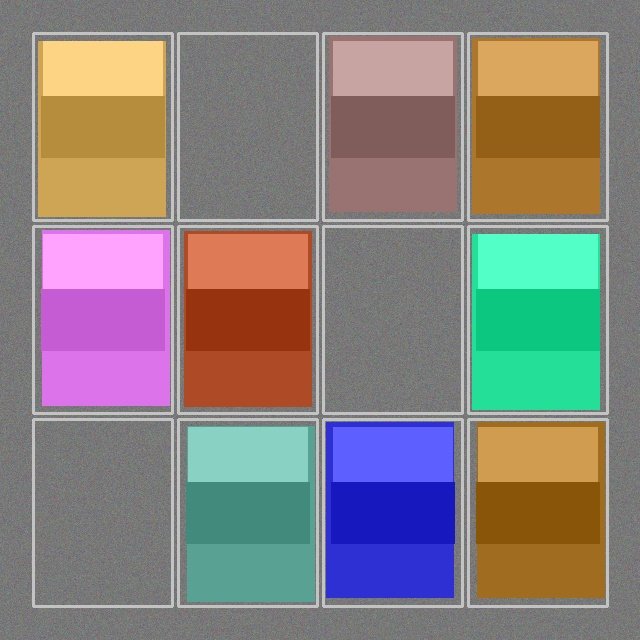space-empty: (180, 35, 315, 218), (325, 228, 460, 411), (35, 421, 170, 604)
space-occupied: (35, 35, 170, 218), (325, 35, 460, 218), (470, 35, 605, 218), (35, 228, 170, 411), (180, 228, 315, 411), (470, 228, 605, 411), (180, 421, 315, 604), (325, 421, 460, 604), (470, 421, 605, 604)
